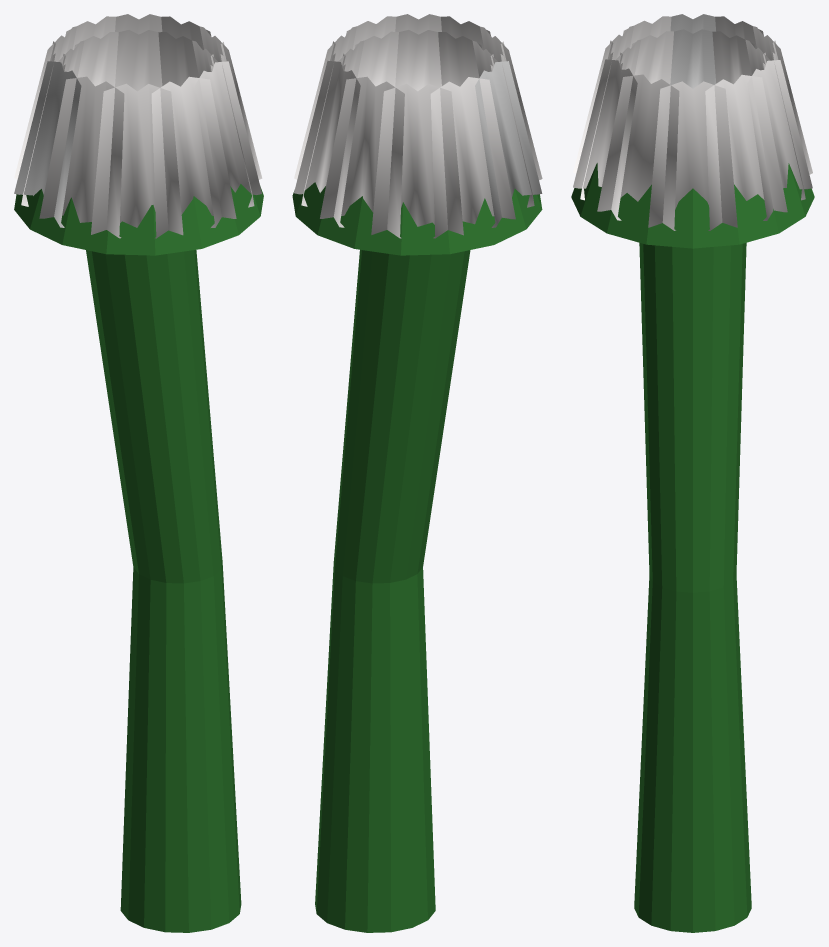
File: daisy bijna in bloei_2.fbx
3 renders of one model, left to right at view 1: azimuth 30°, elevation 25°; view 2: azimuth 150°, elevation 25°; view 3: azimuth 270°, elevation 25°, orthographic. The views are drawn at different scales.
Parts seen in each view (by area): view 1: Circle.013, Circle.002, Circle.001; view 2: Circle.013, Circle.002, Circle.001; view 3: Circle.013, Circle.002, Circle.001.
Part boxes in pixels (x1=…): Circle.013: x1=14, y1=184, x2=263, y2=932; Circle.002: x1=14, y1=14, x2=262, y2=238; Circle.001: x1=58, y1=30, x2=217, y2=91; Circle.013: x1=292, y1=182, x2=542, y2=932; Circle.002: x1=294, y1=14, x2=542, y2=238; Circle.001: x1=338, y1=30, x2=497, y2=91; Circle.013: x1=571, y1=163, x2=814, y2=932; Circle.002: x1=573, y1=14, x2=812, y2=230; Circle.001: x1=616, y1=29, x2=769, y2=88.
Size of the model in its own units: 15.17 by 57.72 by 15.17.
